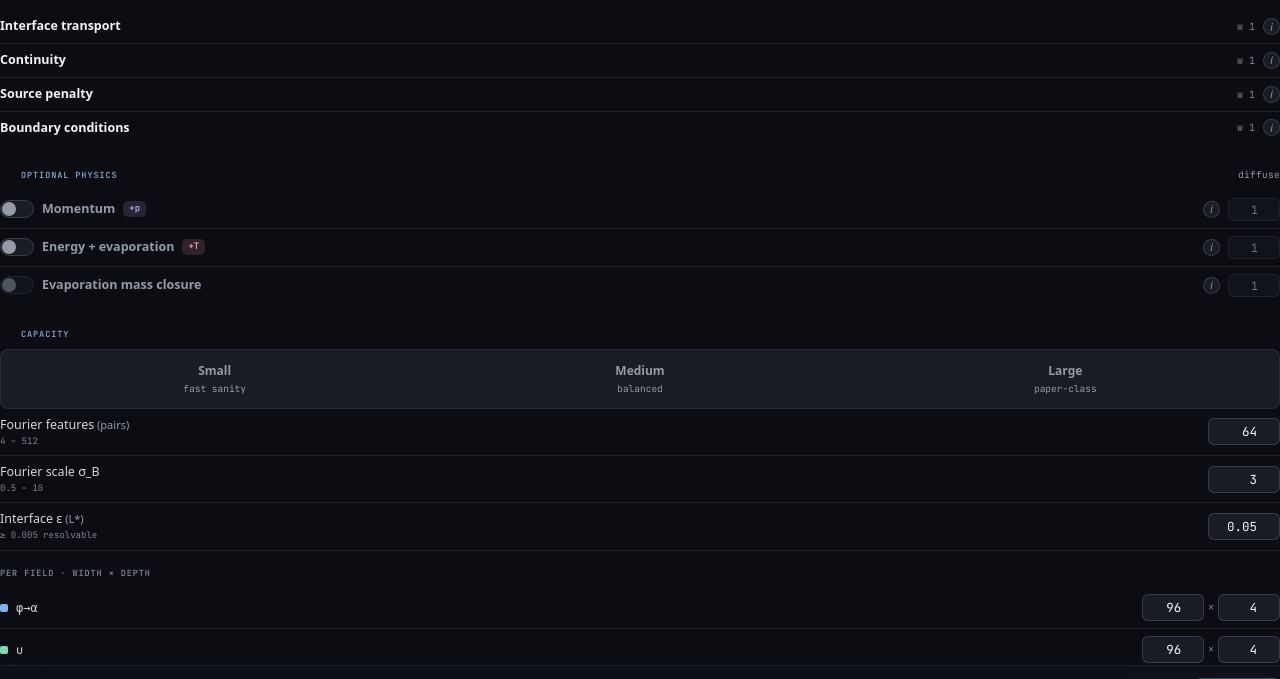
PhysicsModelView › holds Save until there is an edit to commit
Click the switch named "Momentum". click: [17, 209]
box: [0,200,34,218]
(page scrolled)
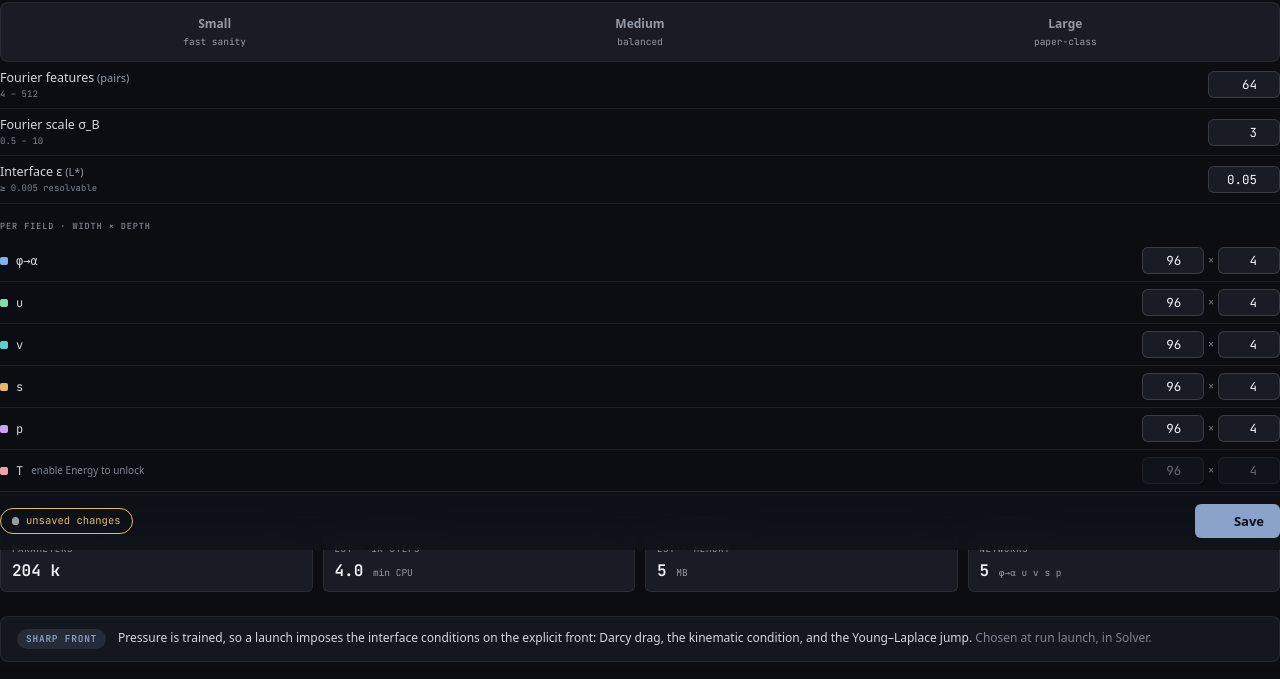
Now the button "Save" is enabled, box [1195,504,1279,538]
